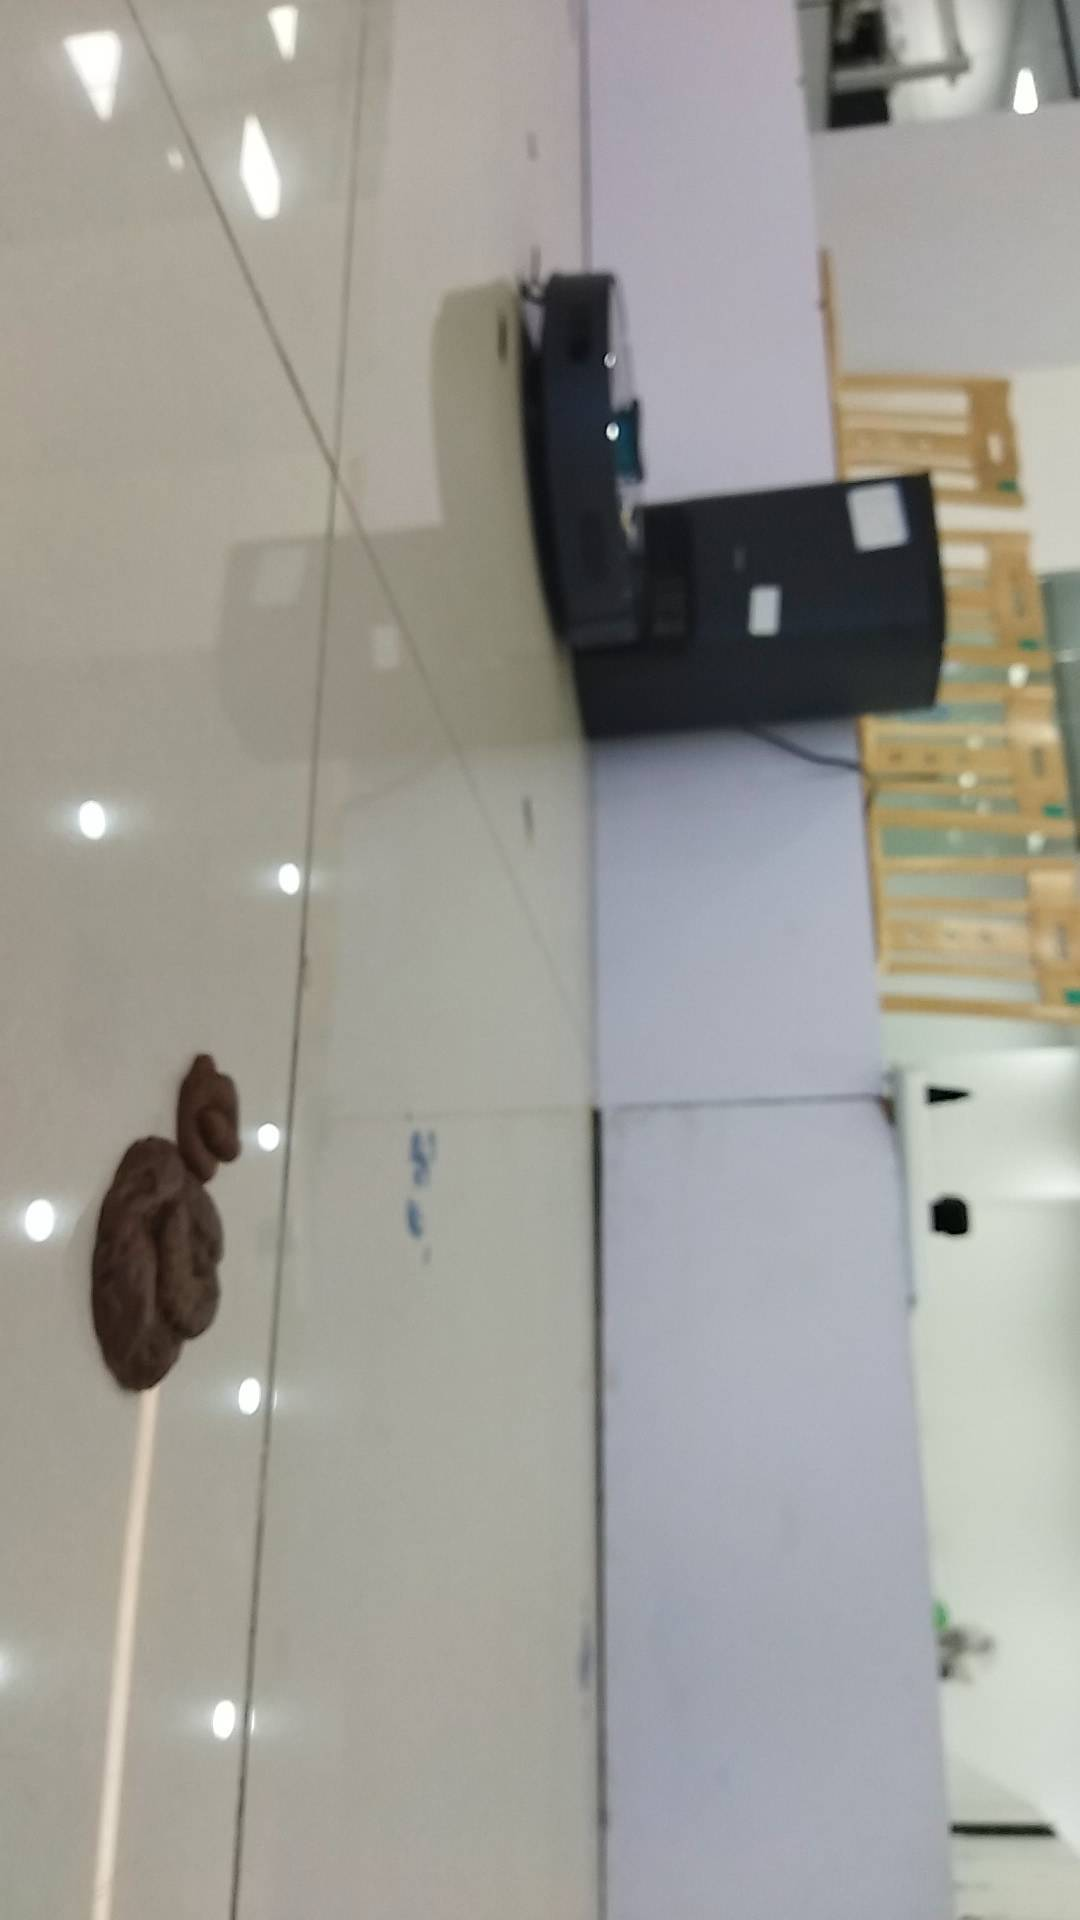dust collecting barrel: (582, 469, 949, 732)
